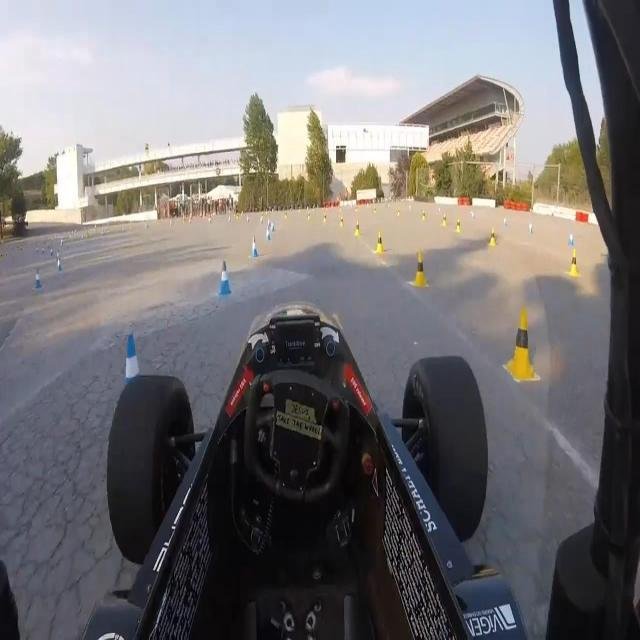blue_cone: (121, 335, 146, 416), (220, 260, 231, 296), (35, 266, 42, 292), (568, 229, 575, 248), (252, 236, 258, 258), (528, 219, 534, 237), (57, 254, 62, 273), (503, 214, 508, 230), (266, 226, 270, 240), (56, 249, 60, 263), (50, 244, 54, 258), (471, 209, 475, 222), (271, 221, 275, 233), (267, 215, 270, 229)
yellow_cone: (510, 306, 534, 378), (414, 248, 426, 287), (569, 244, 579, 281), (487, 223, 498, 252), (455, 215, 462, 235), (377, 230, 382, 254), (442, 210, 448, 230), (356, 220, 360, 237), (422, 208, 426, 225), (323, 212, 328, 225), (340, 215, 344, 227), (306, 209, 310, 221)
